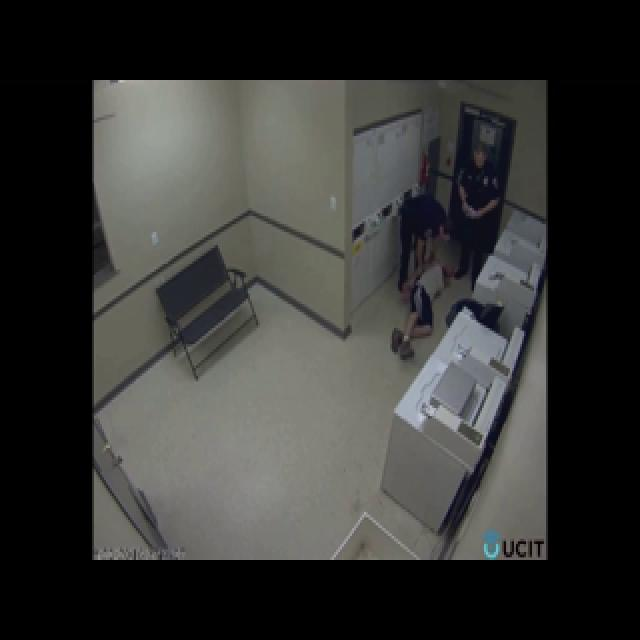arrest: (374, 41, 537, 486)
